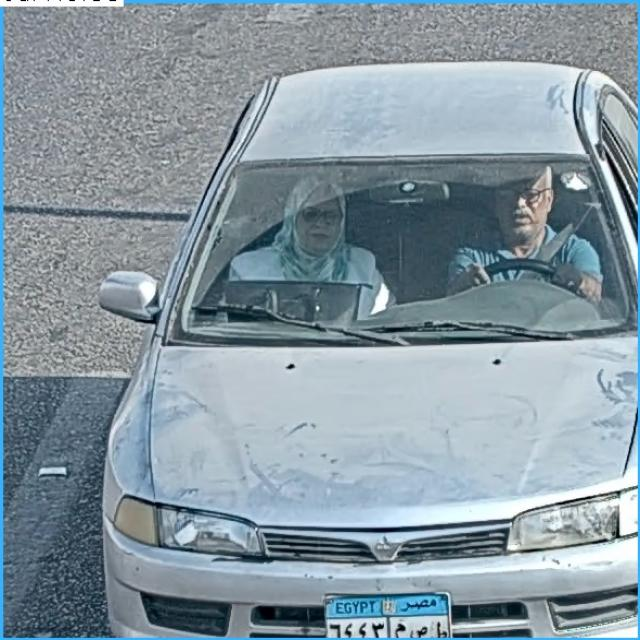windshield: (170, 162, 629, 348)
